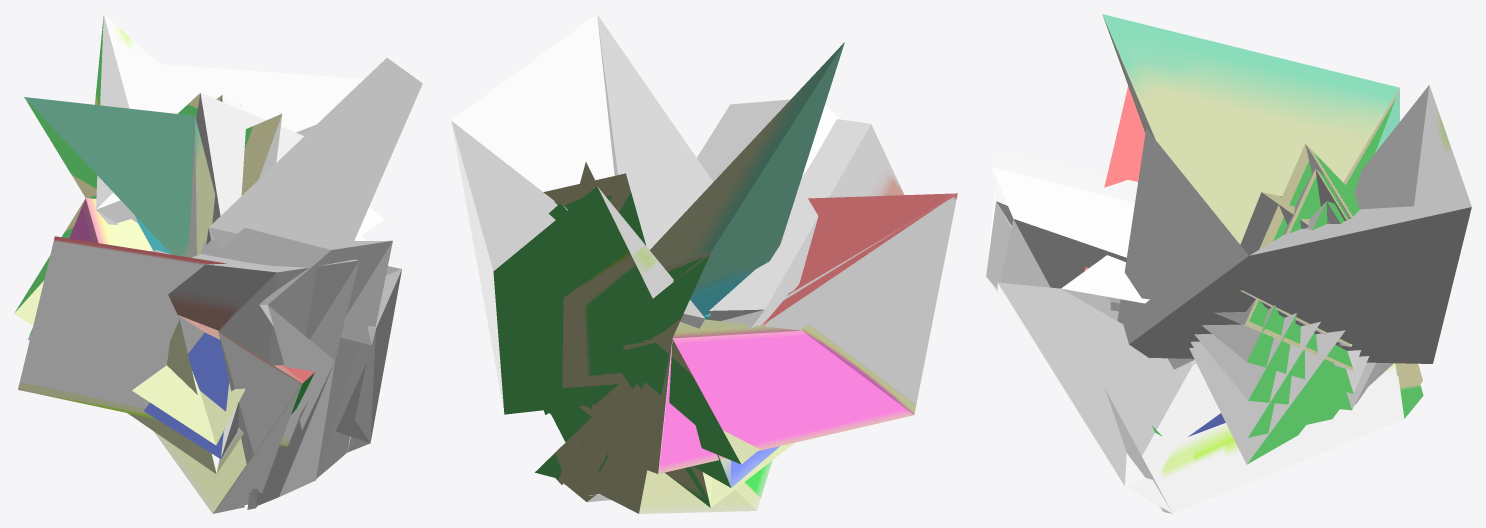
File: eoooor.fbx
3 renders of one model, left to right at view 1: azimuth 30°, elevation 25°; view 2: azimuth 150°, elevation 25°; view 3: azimuth 270°, elevation 25°, orthographic. The views are drawn at different scales.
Parts seen in each view (by area): view 1: 円柱; view 2: 円柱; view 3: 円柱.
Boxes of the visible parts, <box> form: 円柱: <box>14,14,422,513</box>; 円柱: <box>451,14,957,513</box>; 円柱: <box>986,14,1471,513</box>.
Bounding box in the file's own units: 639 × 627 × 632.
1 material, 1 textured.
